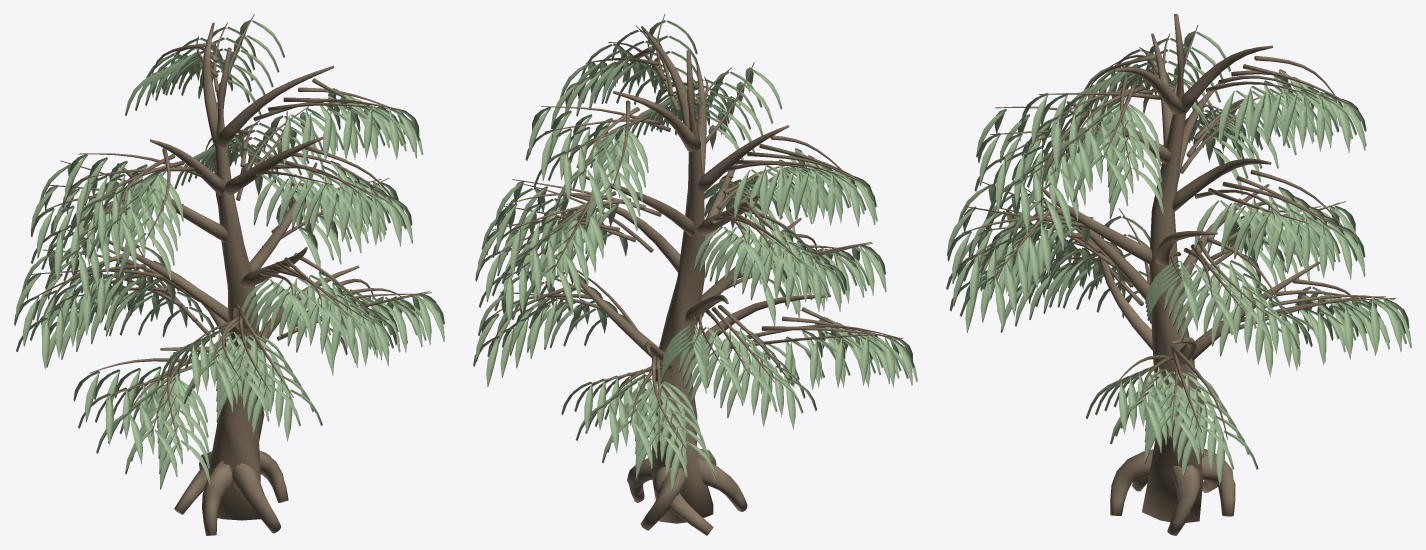
File: willow.glb
3 views of the same model, side by side, from view 1: azimuth 30°, elevation 25°; view 2: azimuth 150°, elevation 25°; view 3: azimuth 270°, elevation 25° (orthographic). The views are drawn at different scales.
Visible parts, largest first — view 1: GEO-willow individual veined leaves, GEO-willow branching bark; view 2: GEO-willow individual veined leaves, GEO-willow branching bark; view 3: GEO-willow individual veined leaves, GEO-willow branching bark.
Part boxes in pixels (bbox=[...]): GEO-willow individual veined leaves: bbox=[14, 20, 444, 489]; GEO-willow branching bark: bbox=[30, 14, 431, 535]; GEO-willow individual veined leaves: bbox=[473, 20, 917, 491]; GEO-willow branching bark: bbox=[491, 14, 903, 535]; GEO-willow individual veined leaves: bbox=[946, 31, 1411, 485]; GEO-willow branching bark: bbox=[961, 14, 1395, 535].
Bounding box in the file's own units: 3.63 × 4.25 × 3.61.
